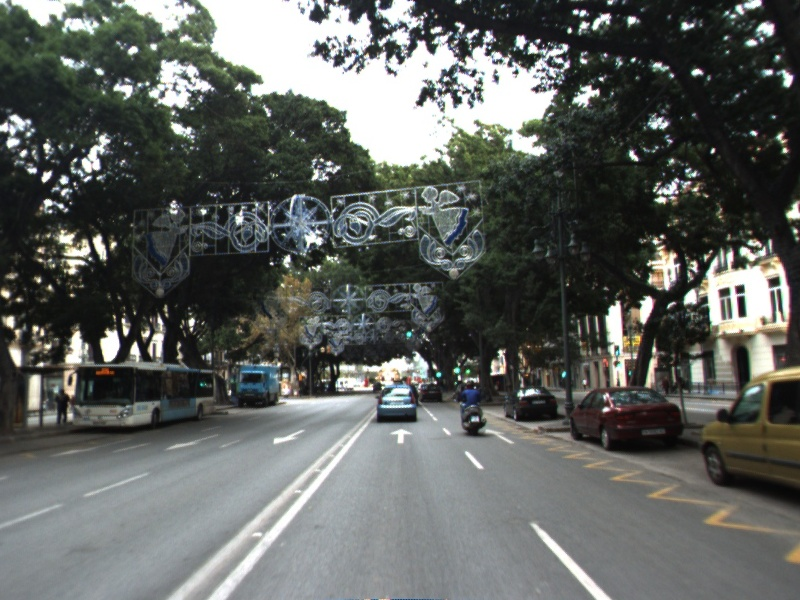STRAIGHT: (483, 427, 517, 446), (388, 427, 415, 445)
